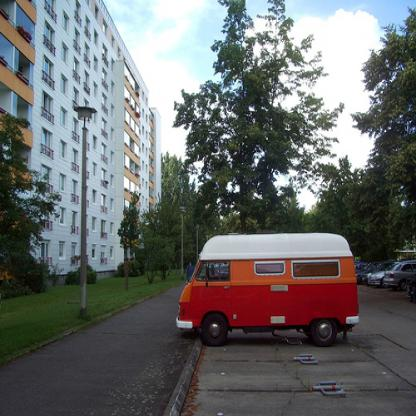car: (176, 232, 360, 348), (364, 255, 401, 286), (383, 258, 415, 288)
